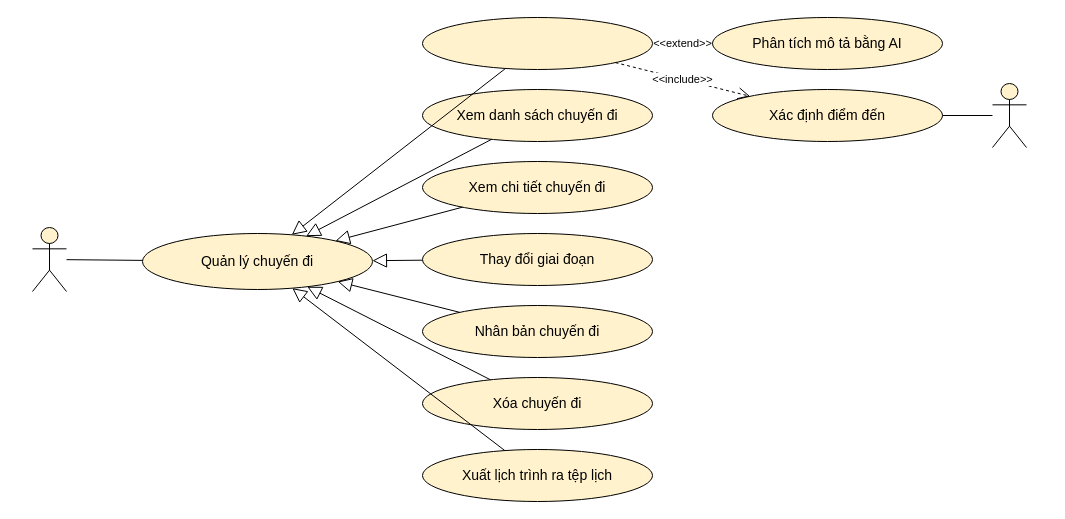
Some shapes in this 1065 by 519 pixel diagram are drawn without their labels. The shapes that lost their labels are listed below. From the top down, each one's centre as x and y in pixels, then its label:
At (537,43): "Tạo chuyến đi".
At (1009,115): "Google Places".
At (49,259): "Người dùng".
